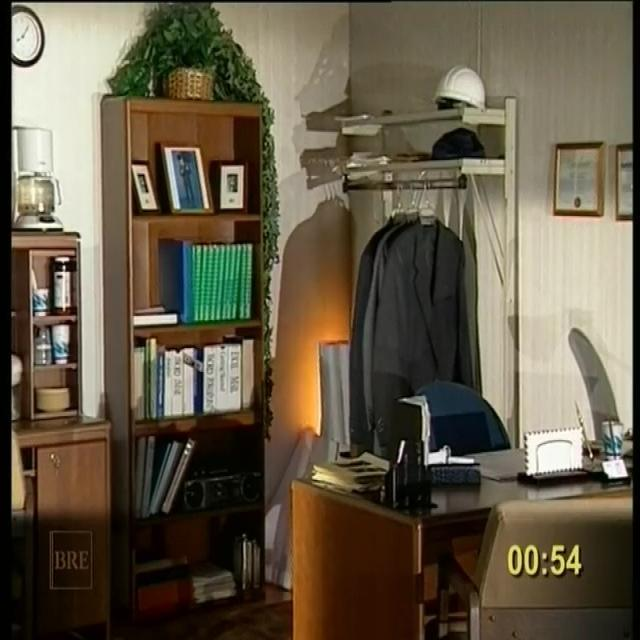Fire: (296, 300, 376, 470)
